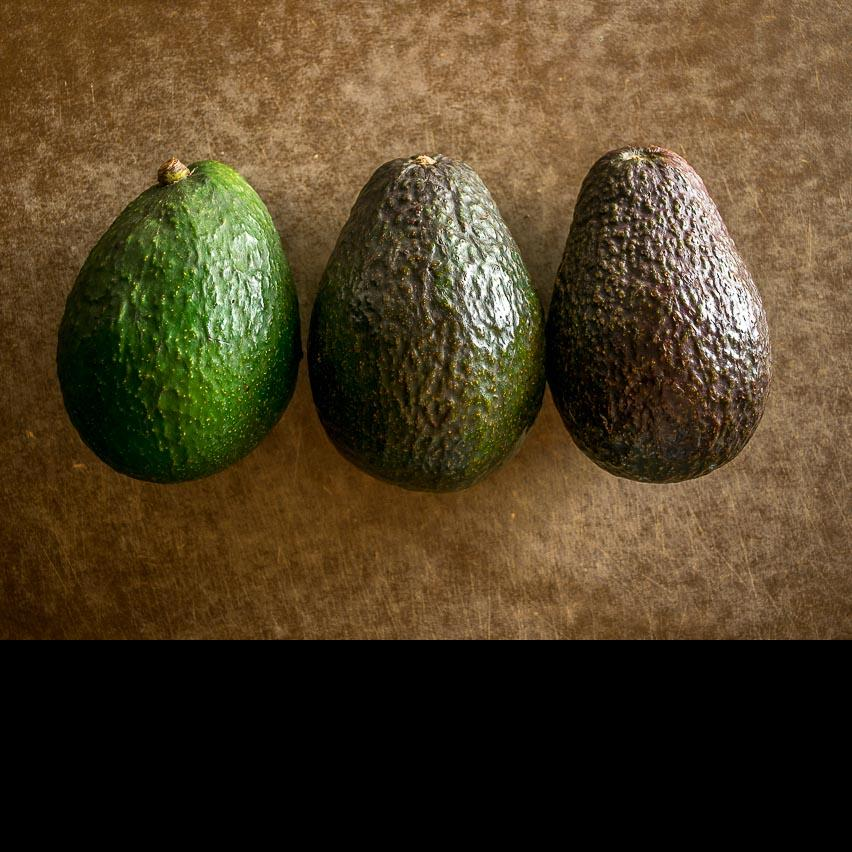almost: (308, 154, 544, 492)
ripe: (544, 144, 772, 483)
unripe: (56, 158, 301, 484)
